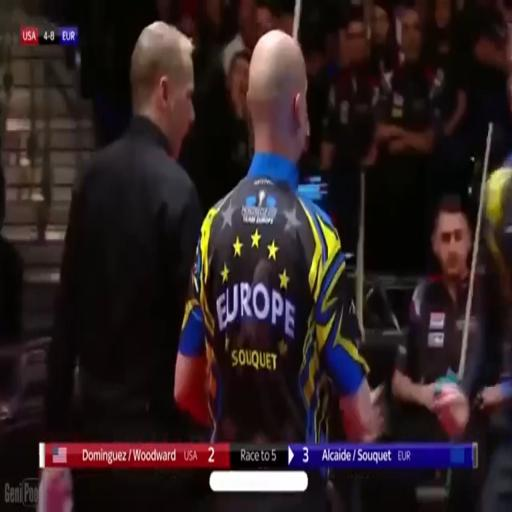nao-violencia: (39, 15, 393, 438)
